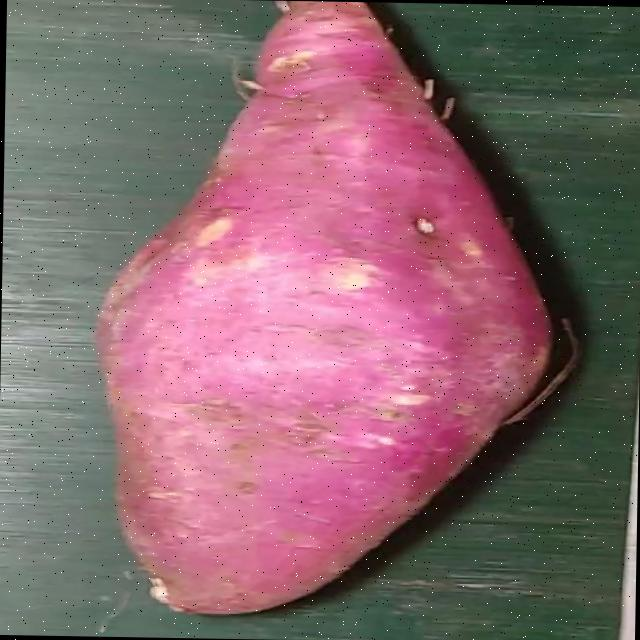Sweet Potato: (93, 6, 551, 614)
